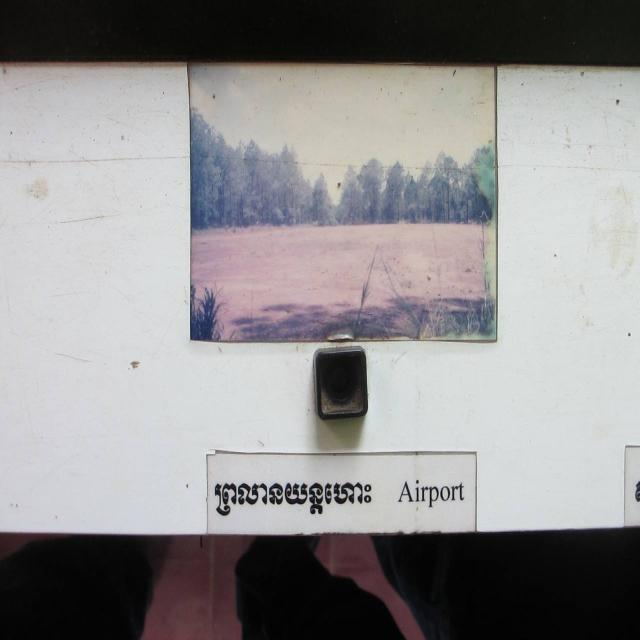Yolov11_80vkh: (214, 463, 382, 522)
